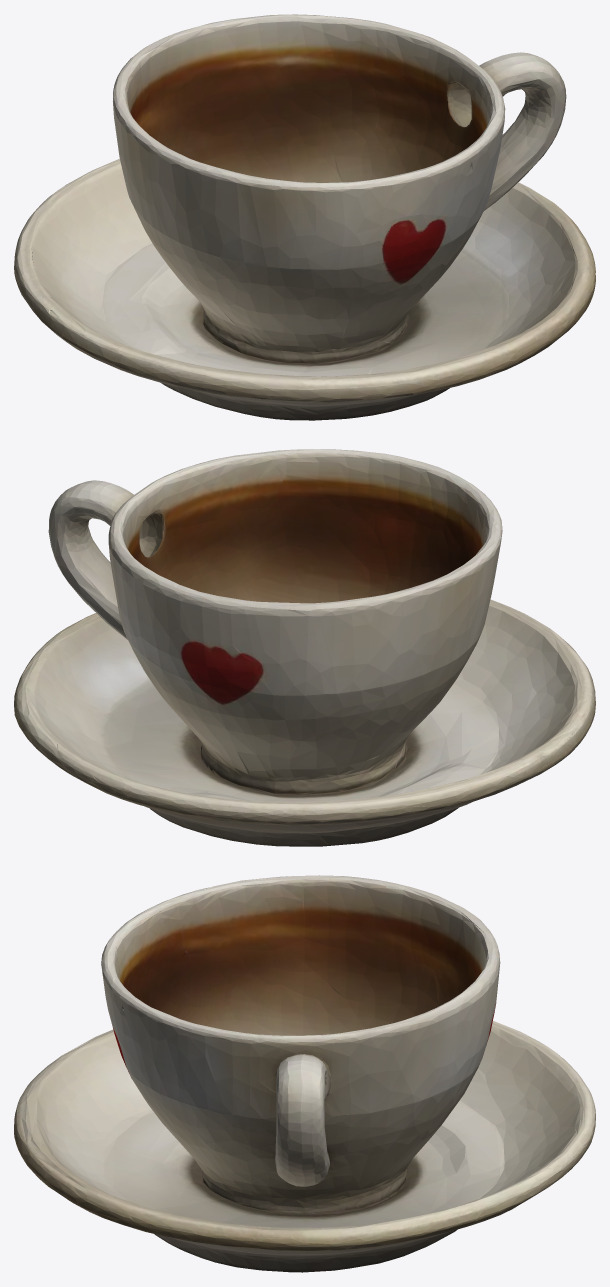
3 renders of one model, top to bottom at view 1: azimuth 30°, elevation 25°; view 2: azimuth 150°, elevation 25°; view 3: azimuth 270°, elevation 25°, orthographic.
Parts seen in each view (by area): view 1: world; view 2: world; view 3: world.
Part boxes in pixels (bbox=[...]): world: bbox=[14, 14, 595, 420]; world: bbox=[14, 449, 595, 846]; world: bbox=[14, 875, 595, 1272].
Bounding box in the file's own units: 0.9844 × 0.477 × 0.9991.
Materials: 1 (1 with a texture image).
